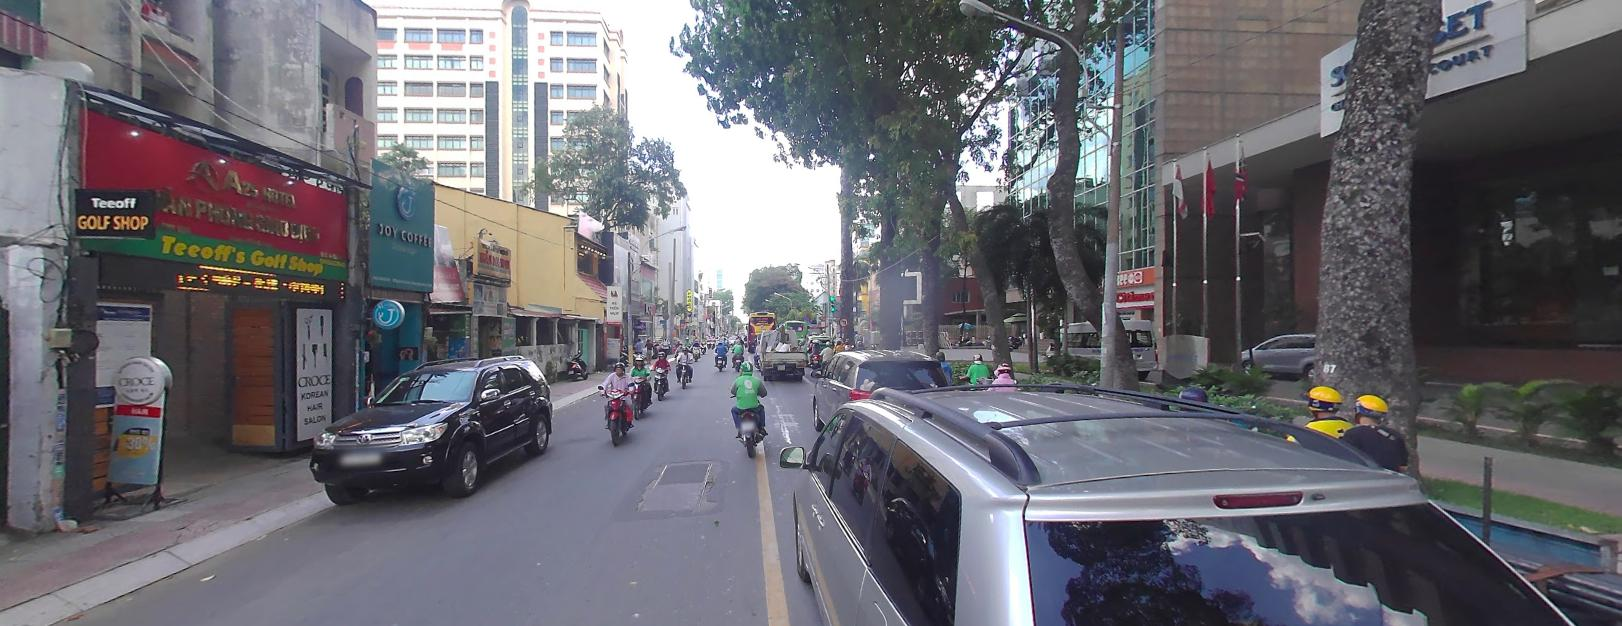Cam dung va do: (802, 314, 809, 320)
Cam re: (838, 315, 848, 325)
